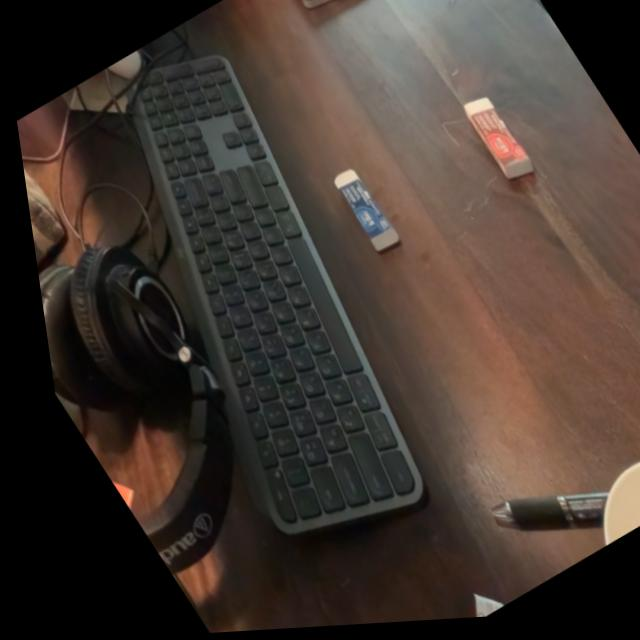blue: (314, 155, 407, 273)
red: (440, 78, 551, 213)
